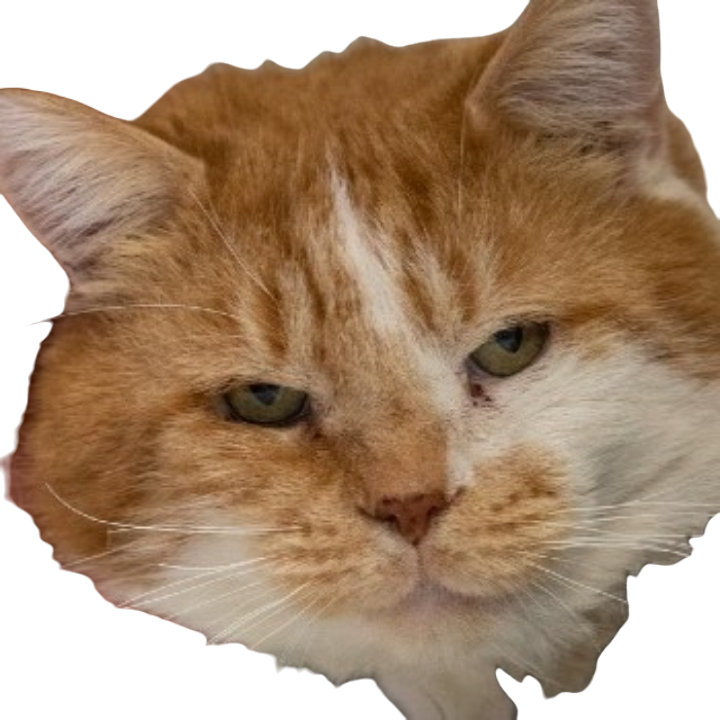Cat: (0, 0, 719, 720)
